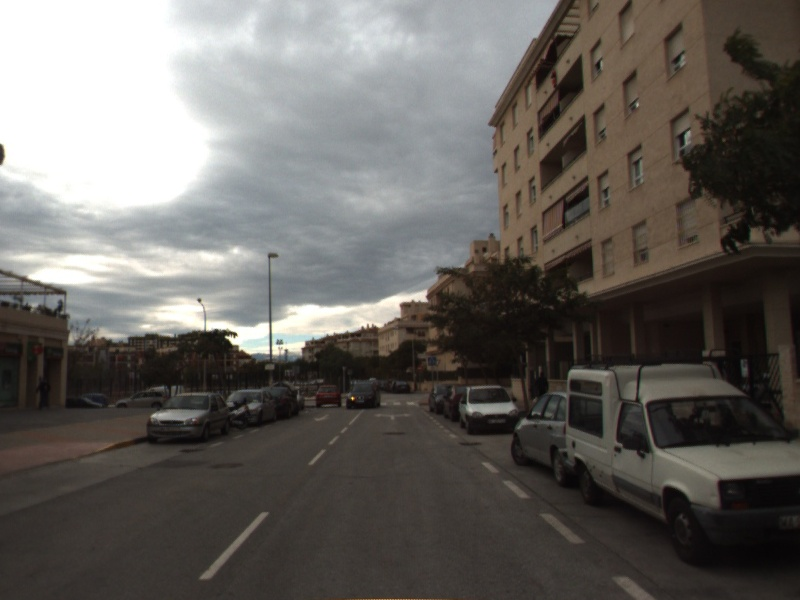LEFT_RIGHT: (372, 410, 414, 422)
